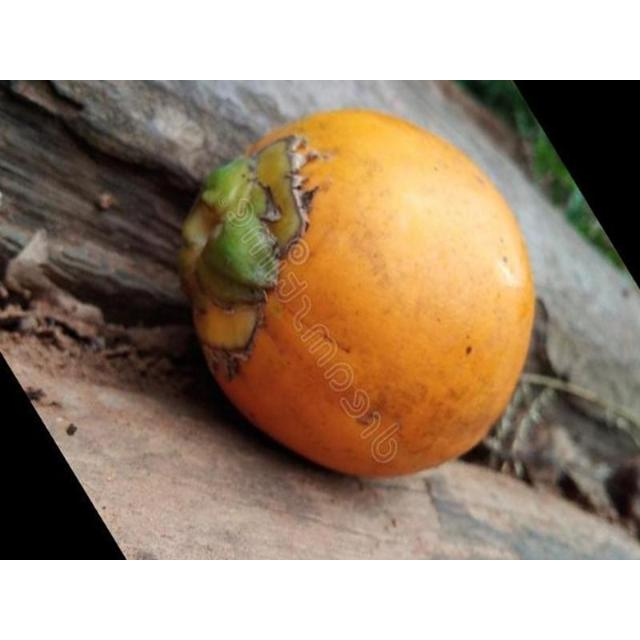good: (177, 109, 538, 482)
